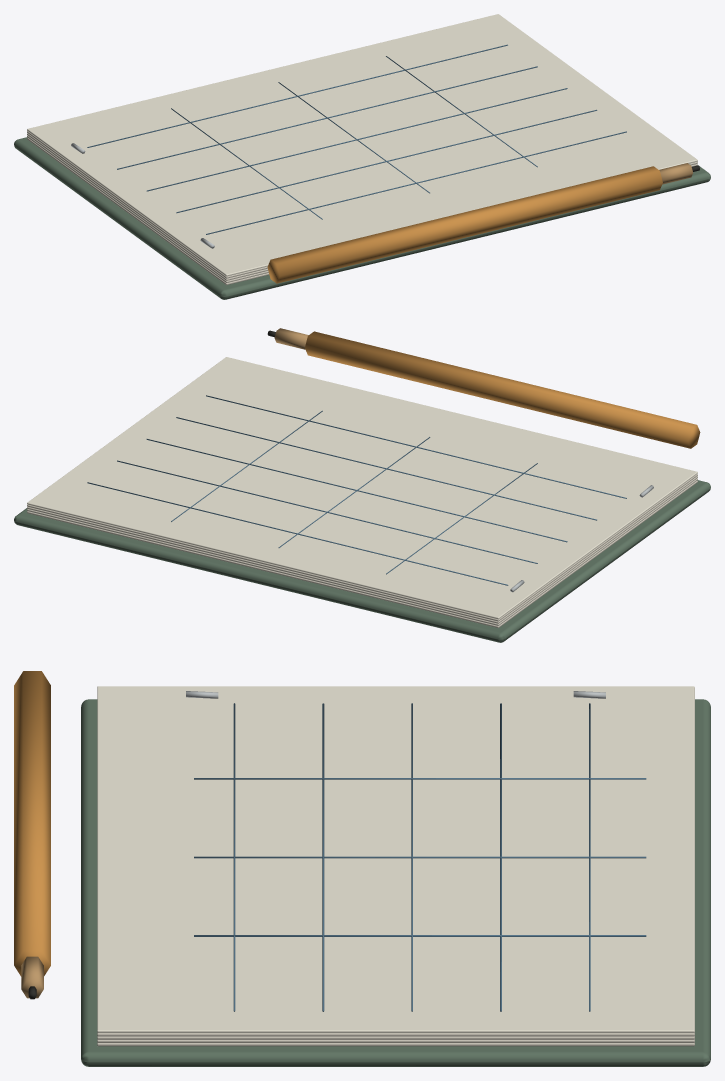
File: yazboz_pad.glb
The picture shows the model from 3 angles, top to bottom: view 1: azimuth 30°, elevation 25°; view 2: azimuth 150°, elevation 25°; view 3: azimuth 270°, elevation 25°; orthographic projection. The views are drawn at different scales.
Parts seen in each view (by area): view 1: PaperSheet.004, Pencil, NotebookCover, RuledLine.002, RuledLine.003, RuledLine, RuledLine.001, RuledLine.004, PaperSheet.003, PaperSheet.002, PaperSheet, PaperSheet.001 (+1 smaller); view 2: PaperSheet.004, NotebookCover, Pencil, PaperSheet, PaperSheet.001, PaperSheet.003, PaperSheet.002, RuledLine.001, RuledLine.002, RuledLine, RuledLine.004, RuledLine.003 (+1 smaller); view 3: PaperSheet.004, NotebookCover, Pencil, PaperSheet.002, PaperSheet.001, PaperSheet, PaperSheet.003, ScoreColumn.001, RuledLine.003, RuledLine.004, ScoreColumn, ScoreColumn.002 (+4 smaller).
Boxes of the visible parts, x1,y1,x2,y2 form: PaperSheet.004: (27, 14, 697, 276); Pencil: (267, 166, 662, 283); NotebookCover: (14, 137, 710, 299); RuledLine.002: (146, 88, 567, 191); RuledLine.003: (176, 109, 597, 213); RuledLine: (87, 44, 507, 147); RuledLine.001: (117, 66, 537, 169); RuledLine.004: (206, 131, 626, 234); PaperSheet.003: (27, 131, 697, 278); PaperSheet.002: (27, 133, 697, 280); PaperSheet: (27, 137, 269, 285); PaperSheet.001: (27, 135, 268, 282); PaperSheet.004: (27, 357, 697, 619); NotebookCover: (14, 480, 710, 642); Pencil: (305, 331, 700, 448); PaperSheet: (27, 480, 697, 627); PaperSheet.001: (27, 478, 697, 625); PaperSheet.003: (27, 474, 697, 621); PaperSheet.002: (27, 476, 697, 623); RuledLine.001: (117, 460, 537, 563); RuledLine.002: (146, 439, 567, 542); RuledLine: (87, 482, 508, 585); RuledLine.004: (206, 395, 626, 498); RuledLine.003: (176, 417, 596, 520); PaperSheet.004: (97, 686, 694, 1032); NotebookCover: (81, 699, 710, 1066); Pencil: (14, 671, 50, 976); PaperSheet.002: (97, 1035, 694, 1039); PaperSheet.001: (97, 1039, 694, 1042); PaperSheet: (97, 1042, 694, 1046); PaperSheet.003: (97, 1032, 694, 1036); ScoreColumn.001: (194, 856, 646, 858); RuledLine.003: (322, 703, 324, 1011); RuledLine.004: (233, 703, 235, 1011); ScoreColumn: (194, 778, 646, 779); ScoreColumn.002: (194, 935, 646, 936).
Bounding box in the file's own units: 0.105 × 0.00899 × 0.0863.
